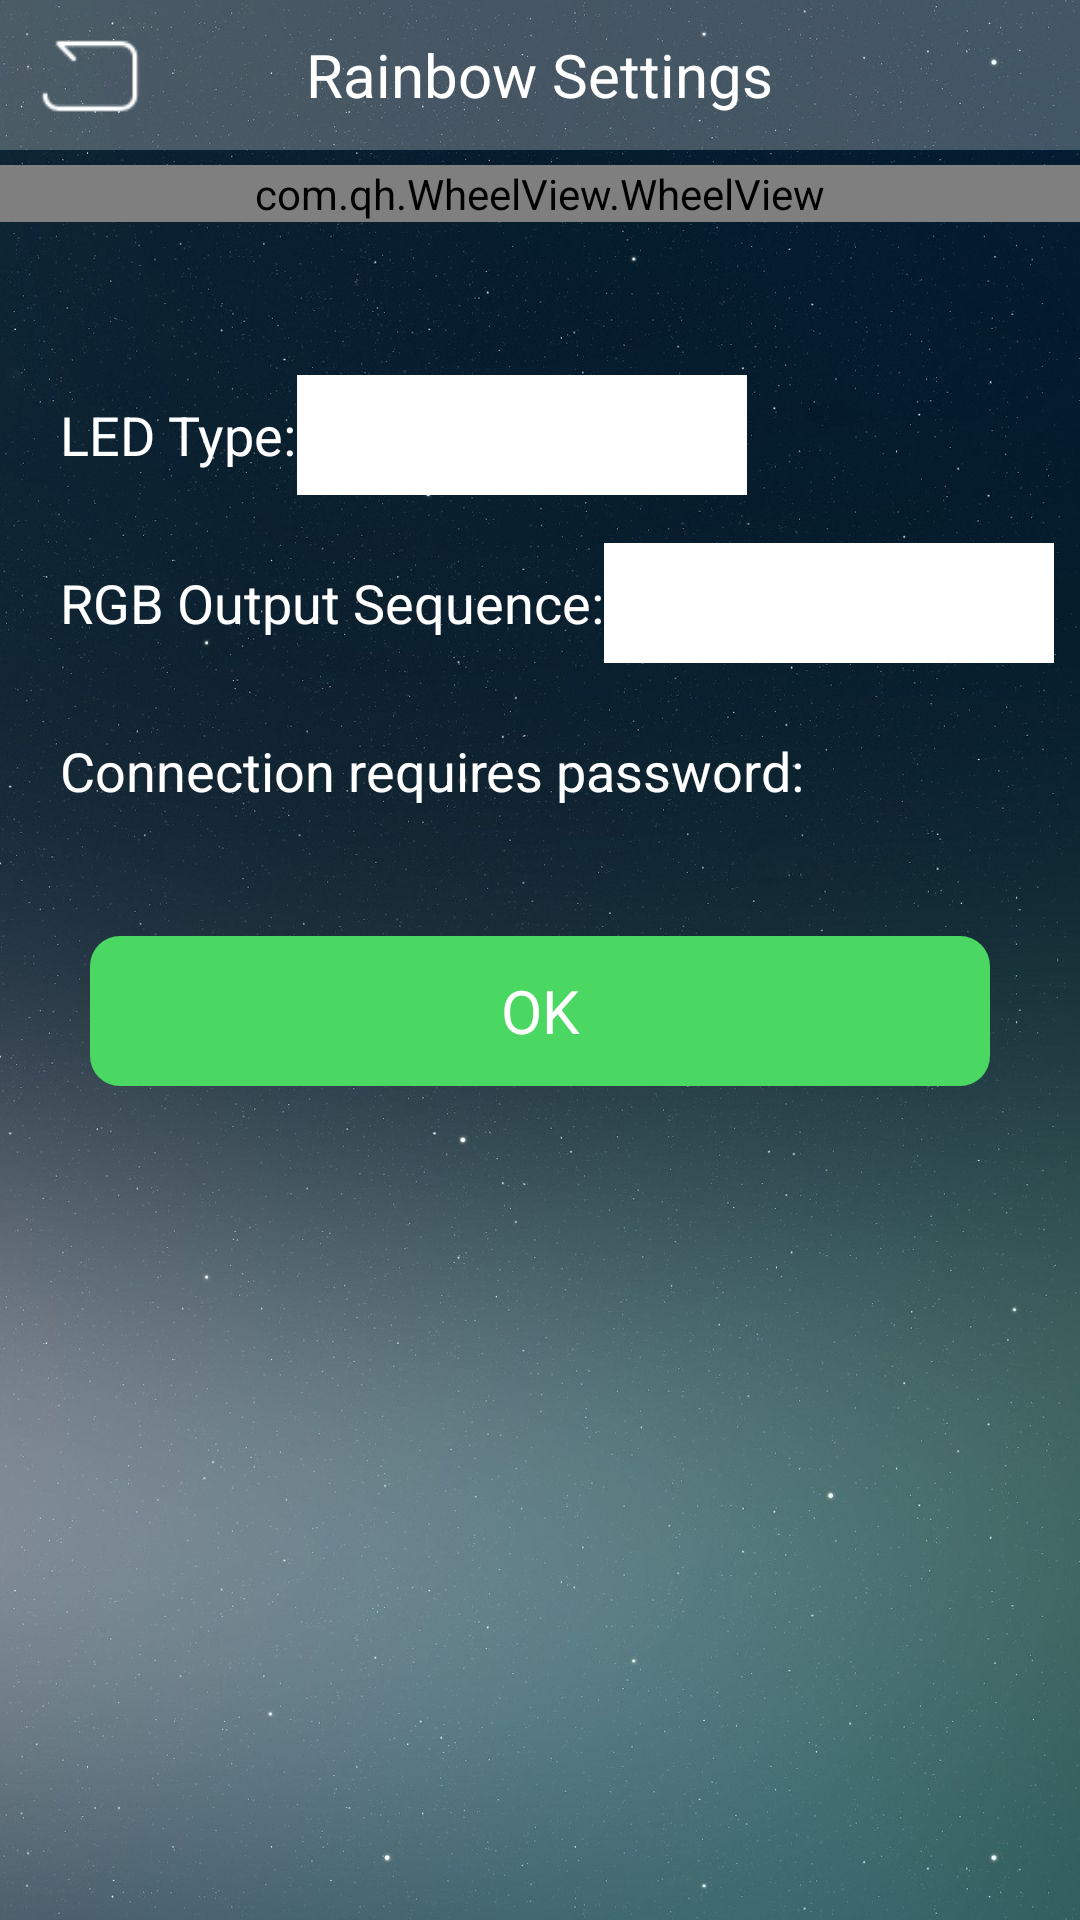

Screen size 1080*1920. Icon name, then its center in pixels as [x,y]:
back: [87,77]
